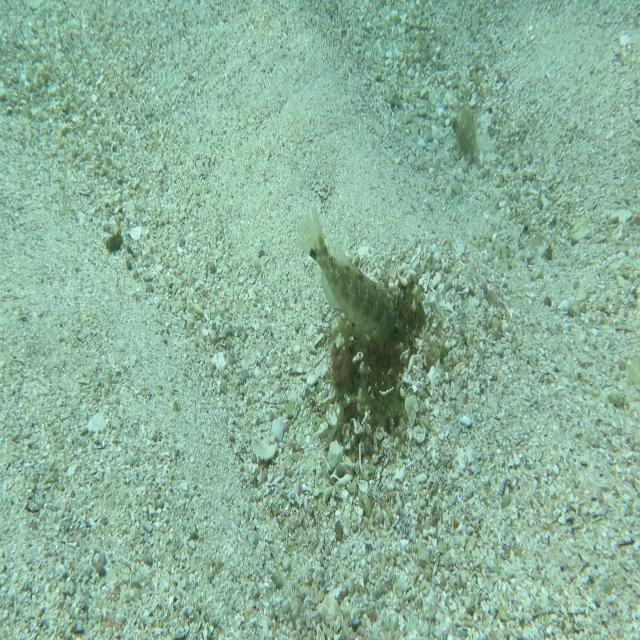NIP_CORE: (294, 200, 408, 358)
nest: (318, 259, 428, 458)
vegetation: (452, 100, 481, 162), (103, 223, 124, 252)
